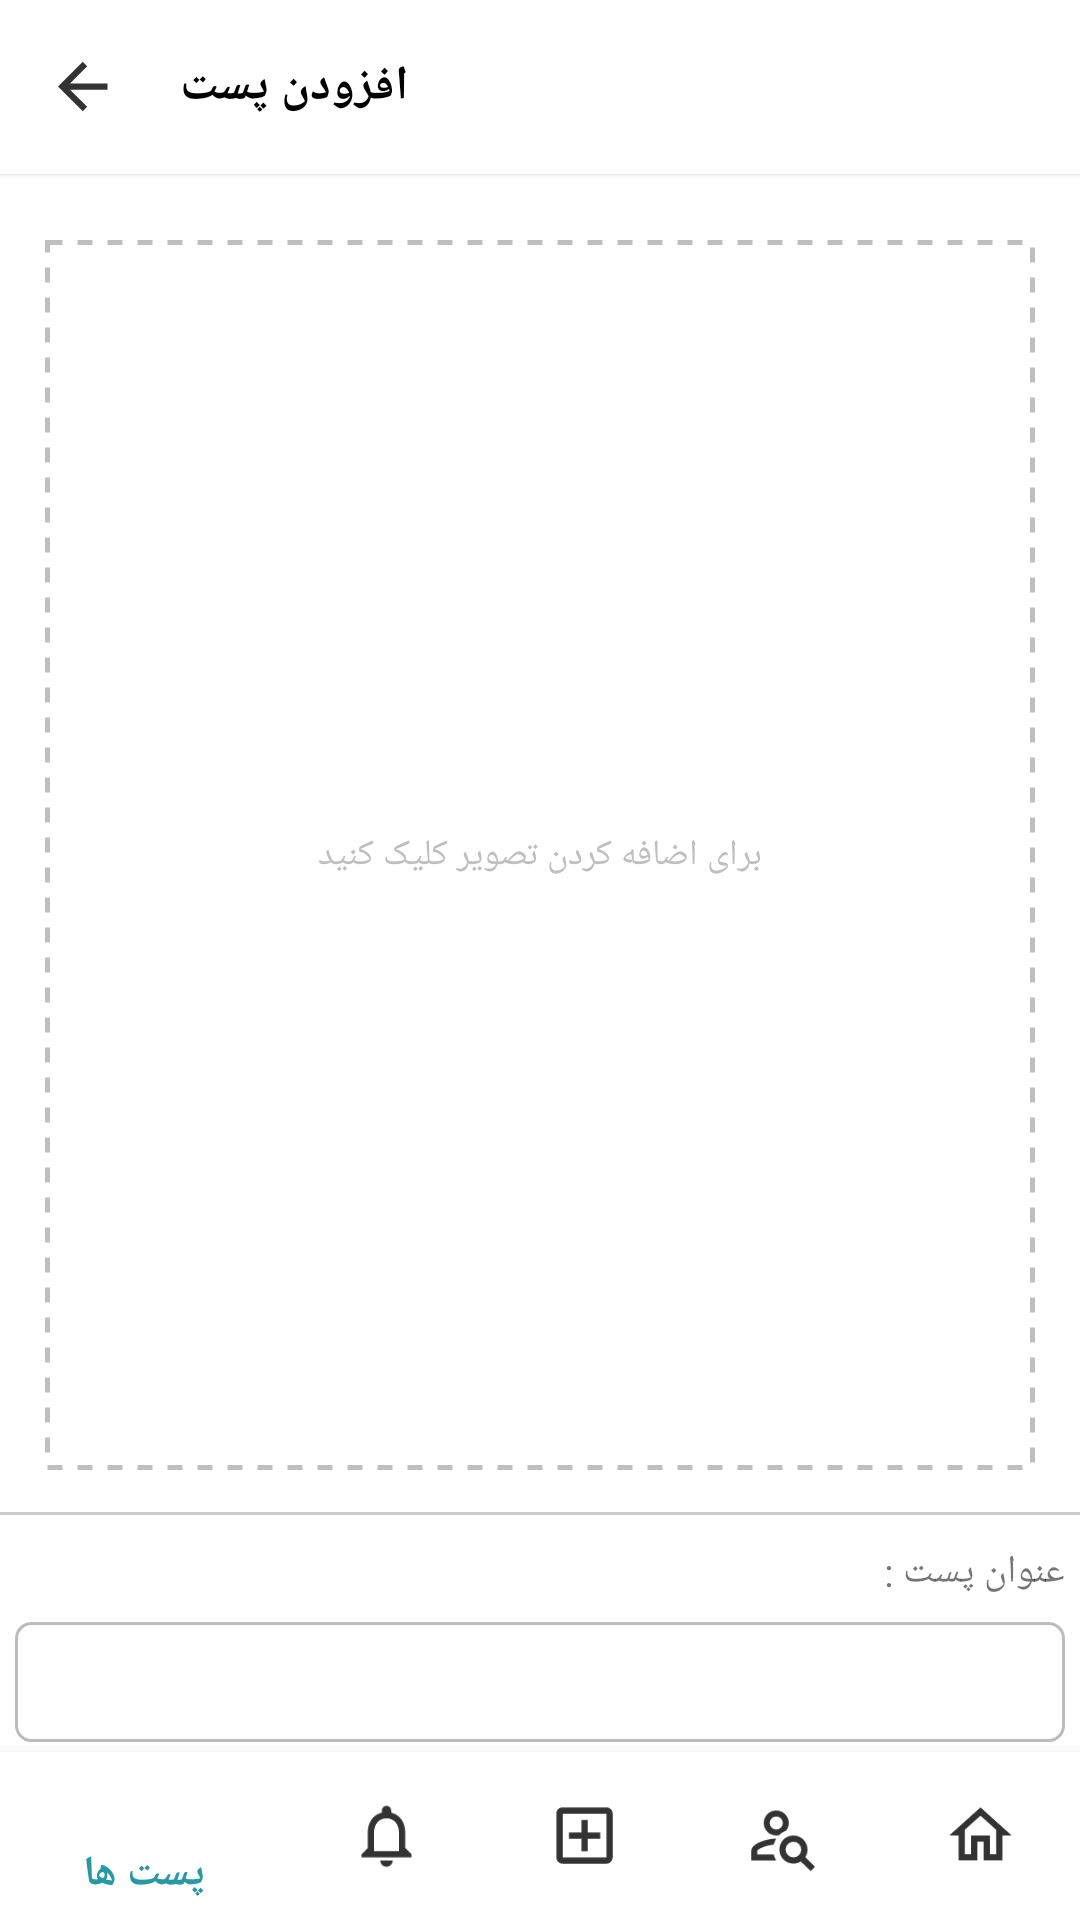

Icons on this 1080x1920 Android screen, each with its box as (x1, y1, x2, y2):
arrow left: (58, 62, 108, 111)
